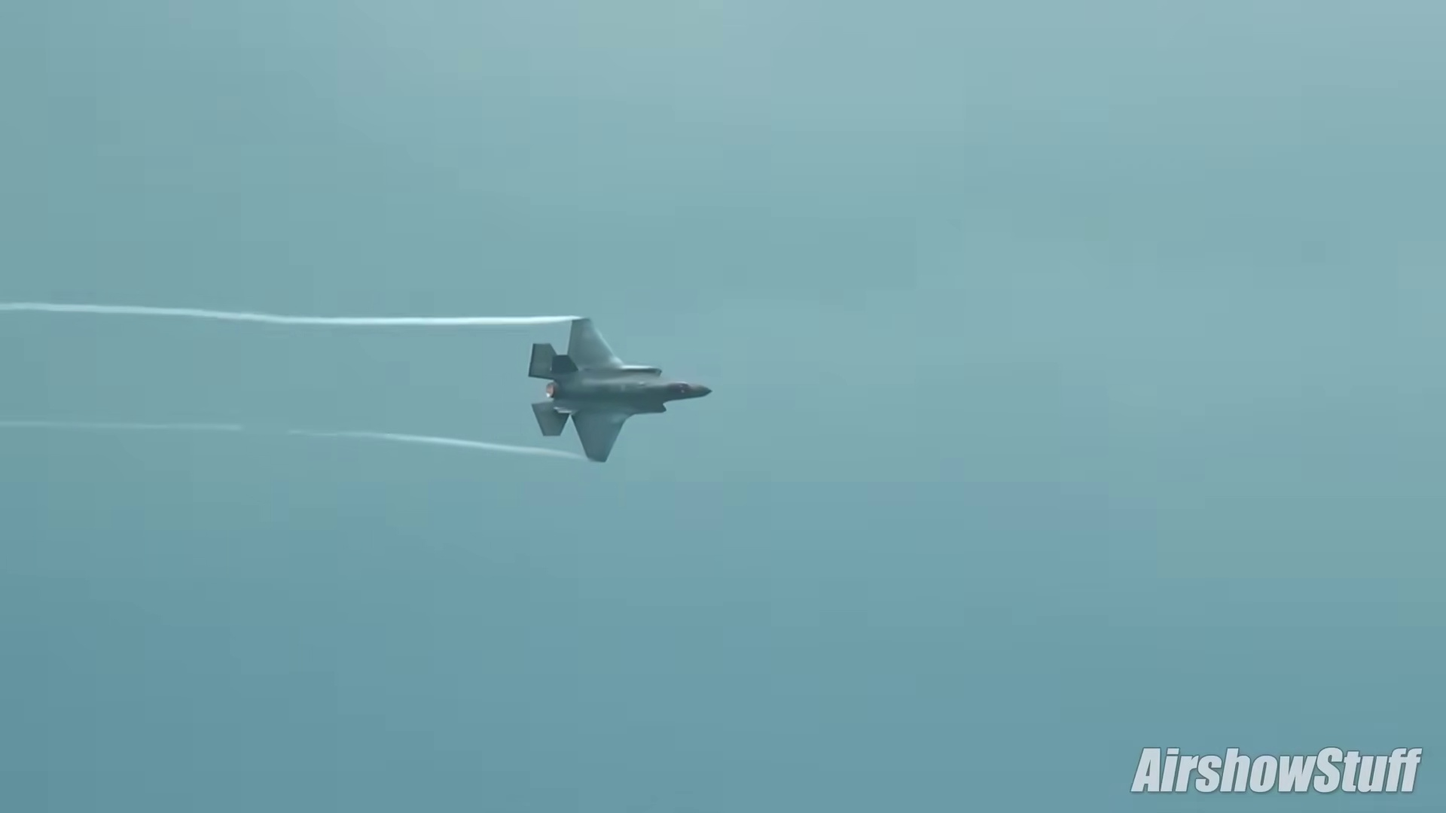F35: (526, 314, 715, 467)
